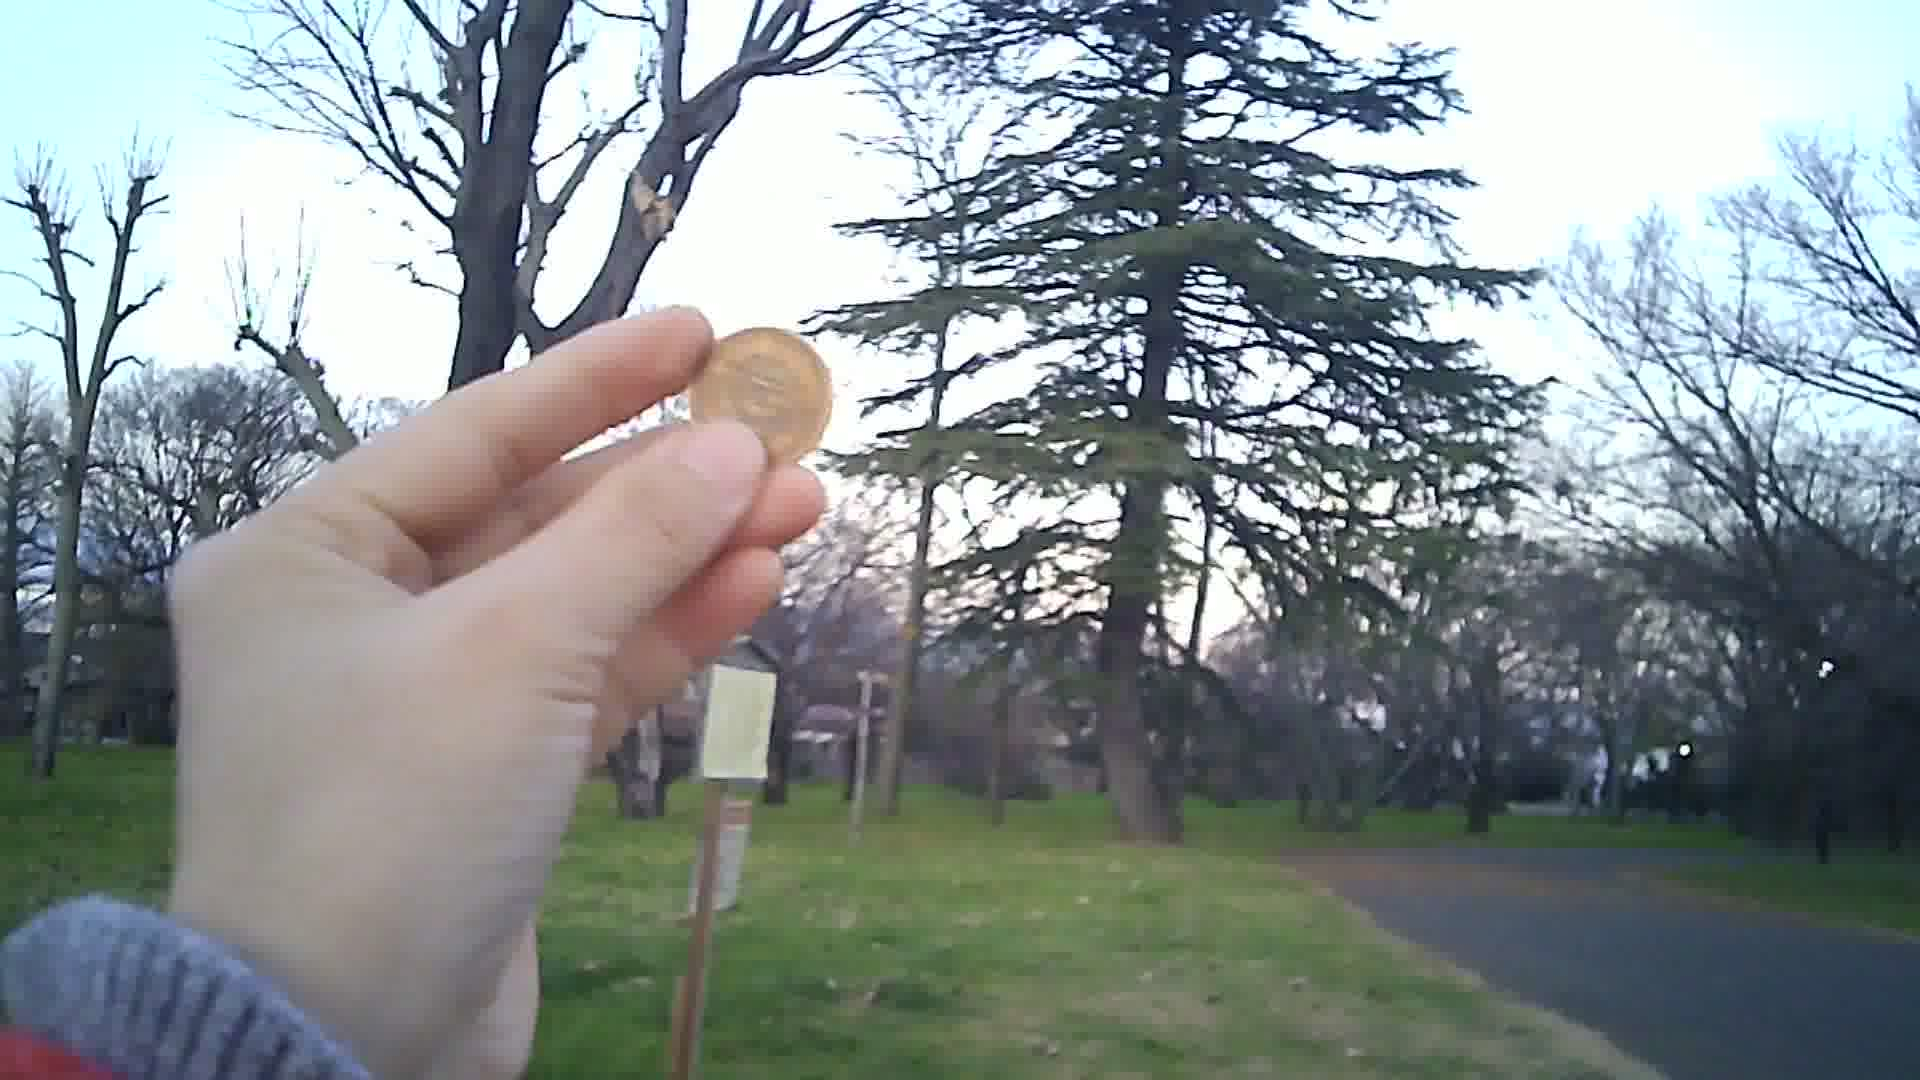10 Yen: (682, 315, 829, 458)
